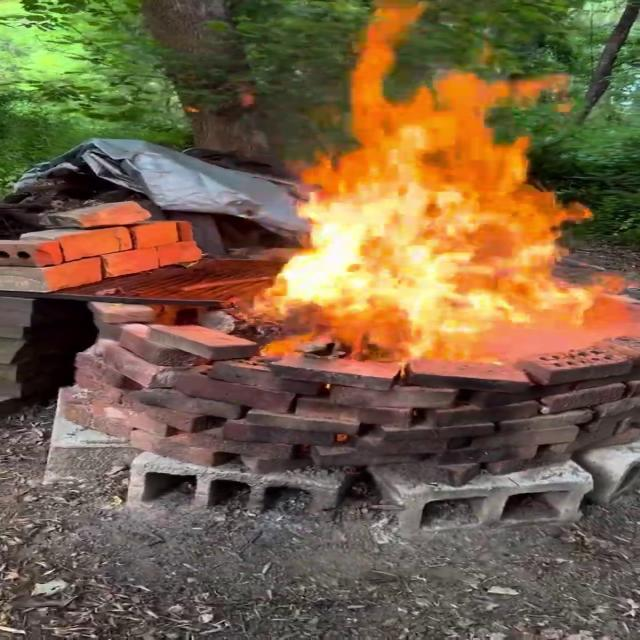Fire: (239, 1, 636, 366)
